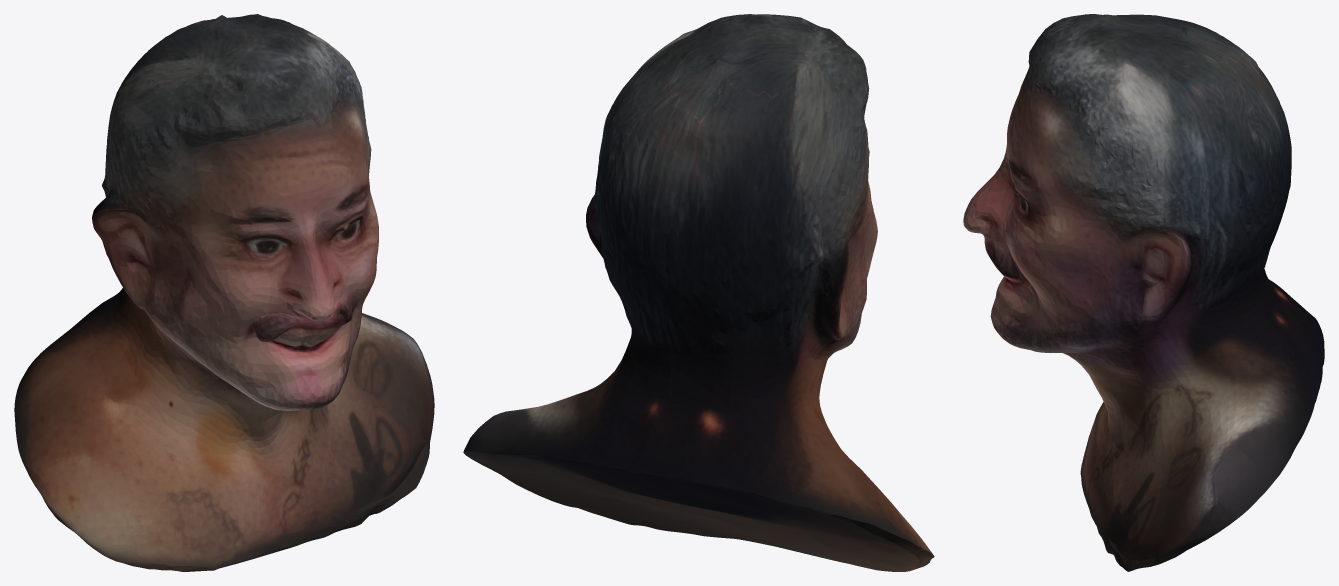
File: modal_20260928_233550.glb
The picture shows the model from 3 angles, left to right: view 1: azimuth 30°, elevation 25°; view 2: azimuth 150°, elevation 25°; view 3: azimuth 270°, elevation 25°; orthographic projection. The views are drawn at different scales.
Parts seen in each view (by area): view 1: world; view 2: world; view 3: world.
Boxes of the visible parts, box(x1,y1,x2,y2) form: world: box(14, 14, 434, 571); world: box(463, 14, 934, 571); world: box(963, 14, 1324, 571).
Size of the model in its own units: 0.844 by 0.9938 by 0.6746.
Materials: 1 (1 with a texture image).
